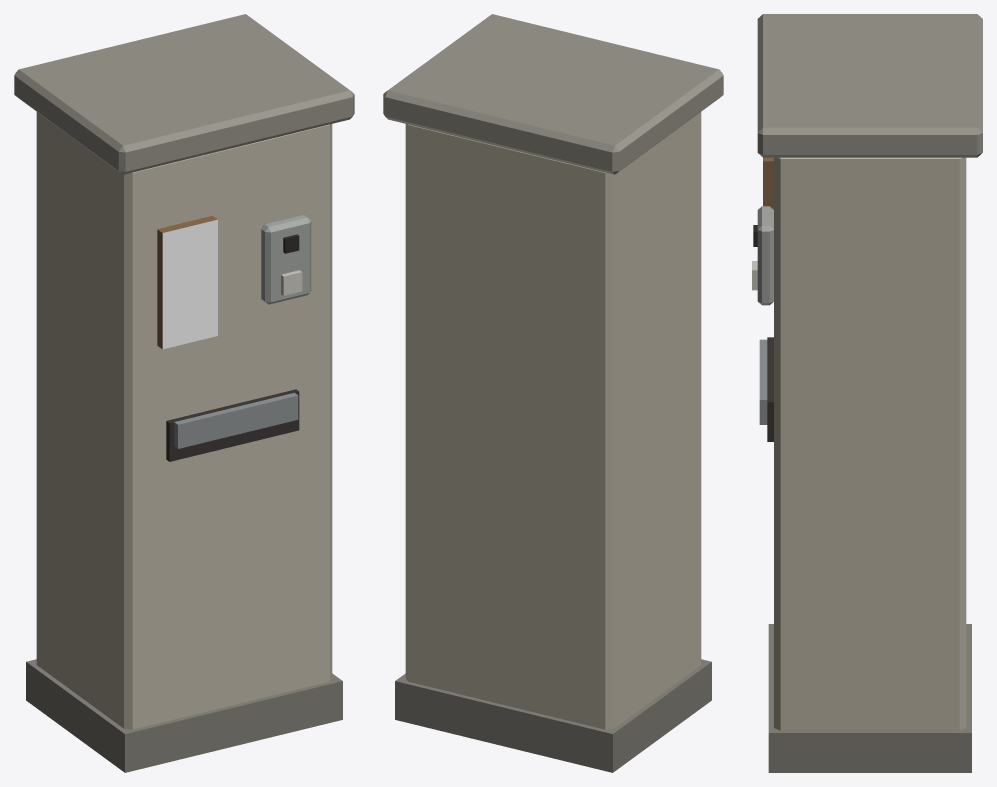
File: street_gate_post_01.glb
3 renders of one model, left to right at view 1: azimuth 30°, elevation 25°; view 2: azimuth 150°, elevation 25°; view 3: azimuth 270°, elevation 25°, orthographic. The views are drawn at different scales.
Visible parts, largest first — view 1: street_gate_post_01; view 2: street_gate_post_01; view 3: street_gate_post_01.
Boxes of the visible parts, x1,y1,x2,y2 form: street_gate_post_01: (14,14,354,772); street_gate_post_01: (383,14,723,772); street_gate_post_01: (752,14,982,772).
Bounding box in the file's own units: 0.51 × 1.3 × 0.42.
